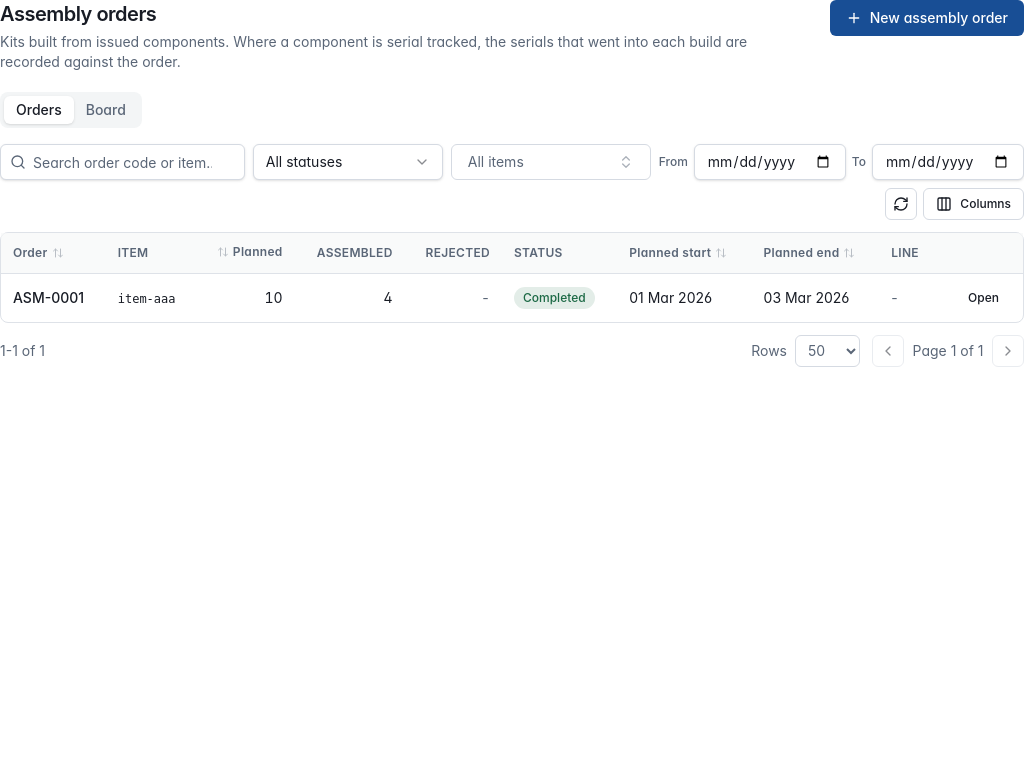
Test: what the order panel offers, status by status › offers only the close on a COMPLETED order
Expected: the button "ASM-0001" is shown, left=13, top=288, right=84, bottom=308
Click the button "Open". click: (984, 298)
box: left=956, top=282, right=1011, bottom=314
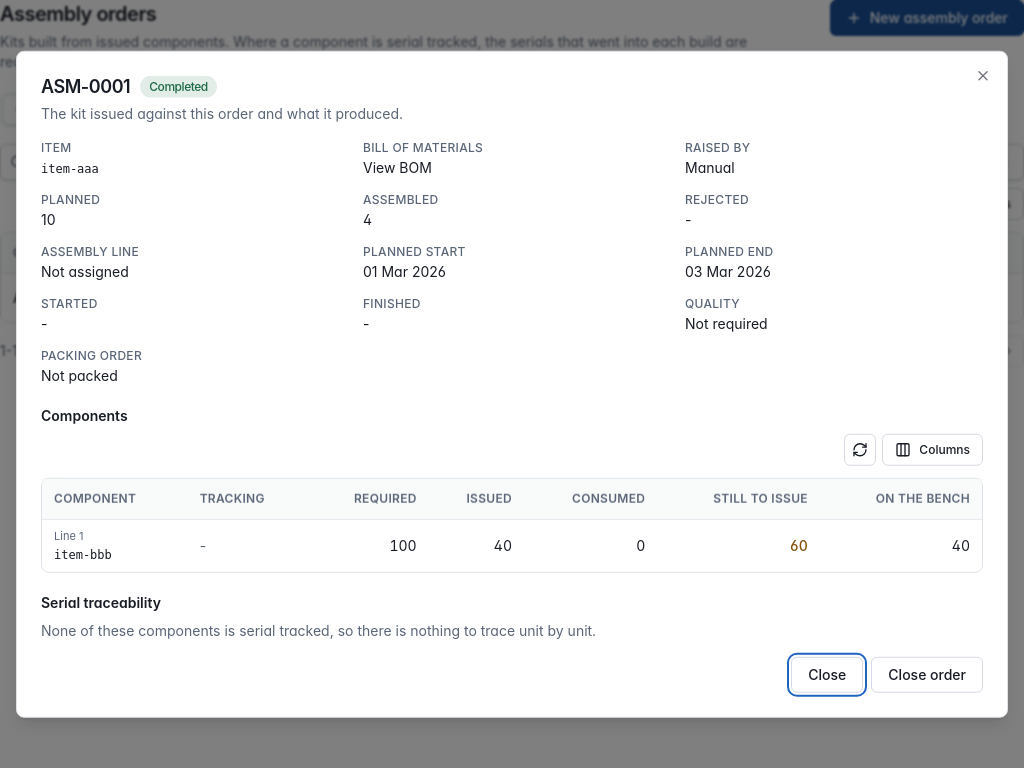
Expected: the dialog is shown
Expected: the button "Close order" is shown, left=871, top=656, right=983, bottom=692
